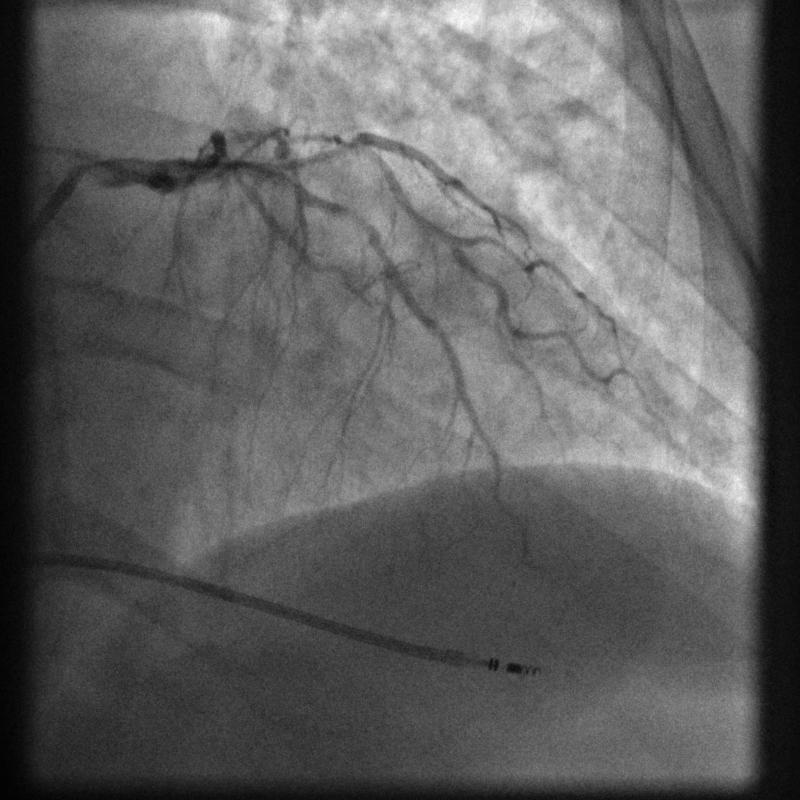Stenosis: (341, 202, 378, 240)
